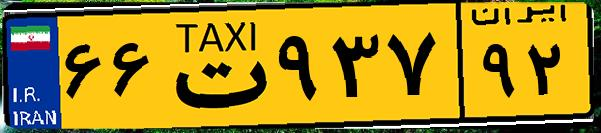2: (525, 38, 570, 115)
3: (330, 28, 385, 110)
6: (57, 26, 110, 100), (110, 28, 158, 98)
7: (385, 28, 445, 110)
9: (270, 28, 330, 110), (475, 38, 525, 113)
ت: (158, 12, 270, 120)
